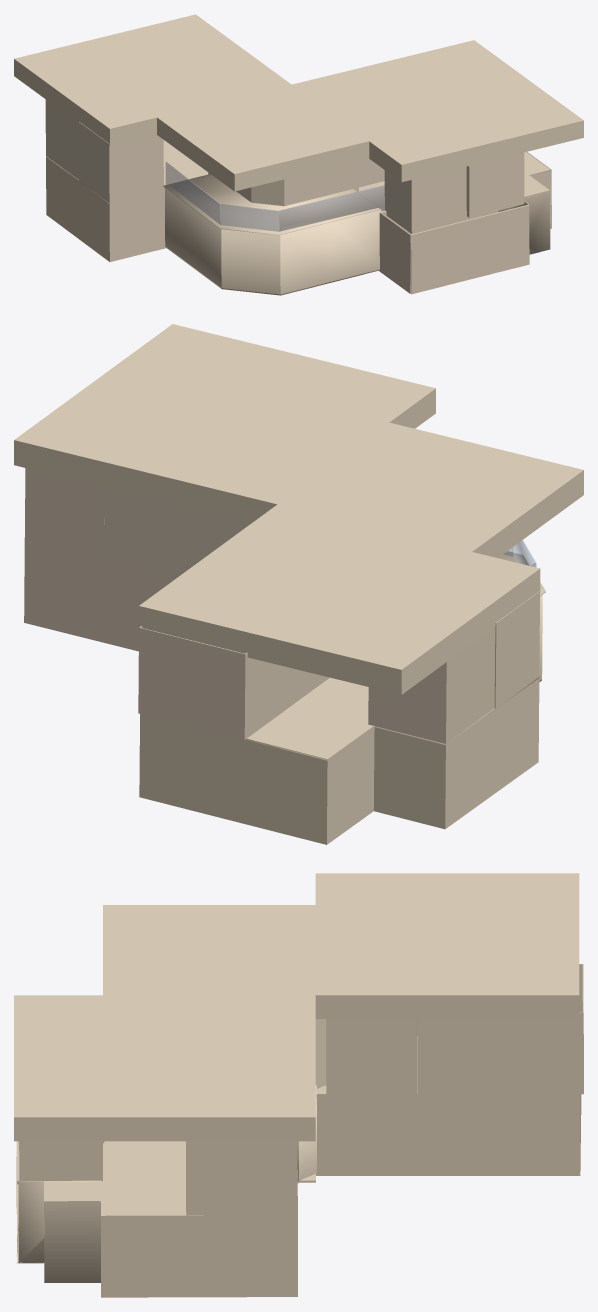
File: Nangaku6.gltf
3 views of the same model, one above another, from view 1: azimuth 30°, elevation 25°; view 2: azimuth 150°, elevation 25°; view 3: azimuth 270°, elevation 25° (orthographic). The views are drawn at different scales.
Visible parts, largest first — view 1: roof.001, floorOne.000, floorOne.001, floorOne.002, floorTwo.023, floorTwo.011, floorTwo.010, floorTwo.000, floorTwo.021, floorTwo.008, floorTwo.006, floorTwo.019 (+5 smaller); view 2: roof.001, floorOne.002, floorTwo.016, floorOne.001, floorTwo.006, floorTwo.002, floorTwo.001, floorTwo.005, floorTwo.011, floorTwo.013, floorTwo.022; view 3: roof.001, floorOne.001, floorOne.002, floorTwo.005, floorTwo.016, floorTwo.022, floorTwo.004, floorTwo.018, floorTwo.014, floorTwo.000, floorOne.000, floorTwo.012.
Part boxes in pixels (bbox=[...]): roof.001: bbox=[14, 14, 583, 191]; floorOne.000: bbox=[164, 188, 381, 295]; floorOne.001: bbox=[379, 151, 551, 294]; floorOne.002: bbox=[46, 157, 166, 261]; floorTwo.023: bbox=[163, 174, 379, 235]; floorTwo.011: bbox=[78, 122, 163, 202]; floorTwo.010: bbox=[384, 166, 466, 233]; floorTwo.000: bbox=[466, 152, 524, 217]; floorTwo.021: bbox=[267, 161, 358, 206]; floorTwo.008: bbox=[280, 185, 384, 231]; floorTwo.006: bbox=[45, 99, 78, 179]; floorTwo.019: bbox=[220, 204, 280, 231]; roof.001: bbox=[14, 324, 583, 694]; floorOne.002: bbox=[139, 678, 539, 844]; floorTwo.016: bbox=[138, 626, 288, 739]; floorOne.001: bbox=[24, 537, 178, 651]; floorTwo.006: bbox=[368, 627, 495, 743]; floorTwo.002: bbox=[245, 677, 539, 760]; floorTwo.001: bbox=[104, 487, 184, 575]; floorTwo.005: bbox=[25, 468, 104, 557]; floorTwo.011: bbox=[494, 591, 539, 708]; floorTwo.013: bbox=[184, 507, 251, 572]; floorTwo.022: bbox=[288, 667, 329, 707]; roof.001: bbox=[14, 873, 579, 1141]; floorOne.001: bbox=[16, 1141, 297, 1297]; floorOne.002: bbox=[298, 1093, 581, 1183]; floorTwo.005: bbox=[186, 1141, 297, 1215]; floorTwo.016: bbox=[500, 964, 583, 1094]; floorTwo.022: bbox=[417, 1019, 500, 1094]; floorTwo.004: bbox=[100, 1141, 186, 1215]; floorTwo.018: bbox=[326, 1019, 371, 1095]; floorTwo.014: bbox=[371, 1019, 416, 1094]; floorTwo.000: bbox=[29, 1141, 102, 1180]; floorOne.000: bbox=[297, 1085, 316, 1182]; floorTwo.012: bbox=[315, 1019, 326, 1088].
Size of the model in its own units: 1.61 by 0.5631 by 1.58.
